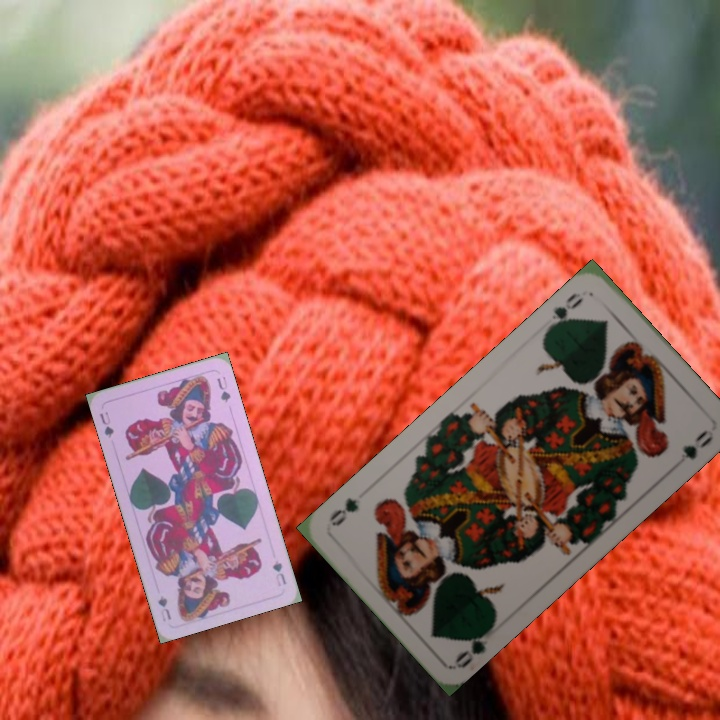GO: (451, 620, 497, 671), (543, 288, 587, 334)
GU: (95, 408, 117, 441), (269, 557, 289, 589)
